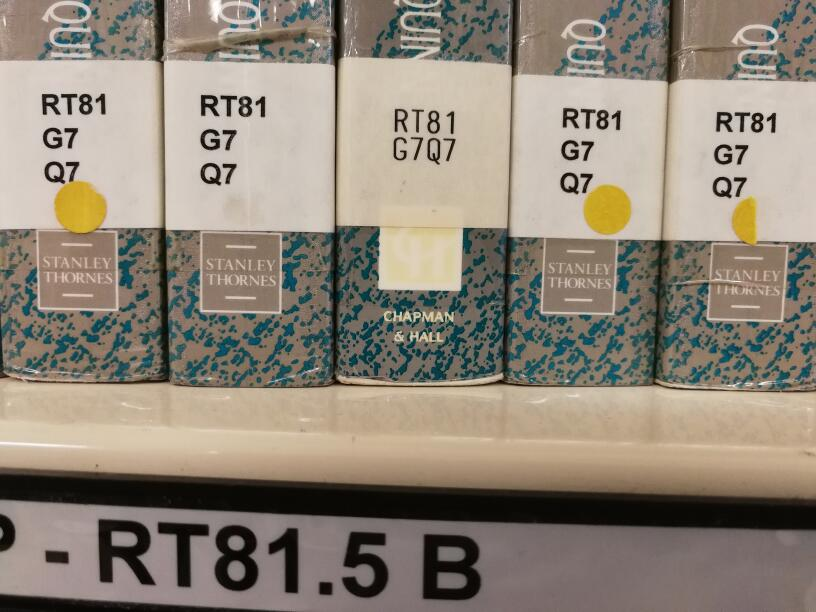booklabel: (36, 89, 109, 184), (196, 91, 268, 187), (709, 109, 777, 199), (559, 105, 624, 194), (388, 104, 460, 167)
